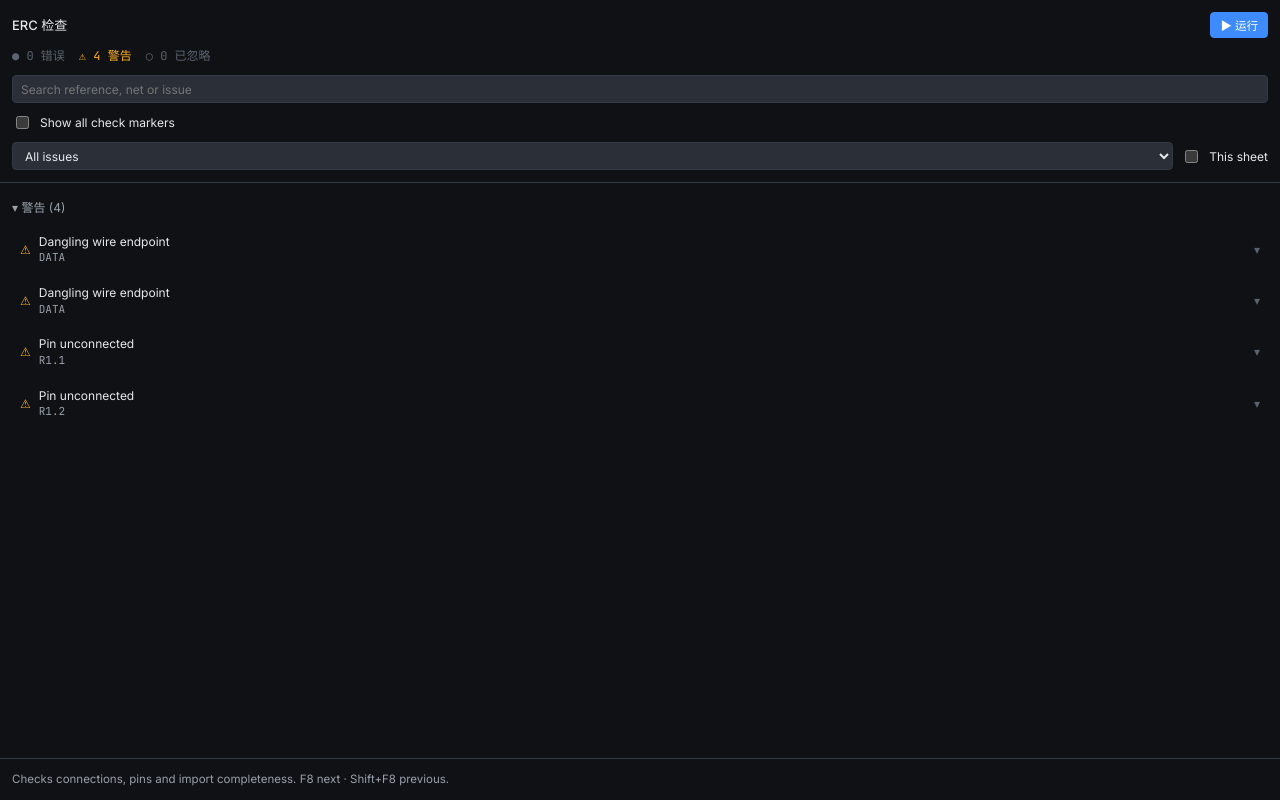
Test: filters and expands warnings, locates the pin, and marks intentional no-connect with undo
This screenshot has width=1280, height=800.
In the search field: (640, 89) left=12, top=75, right=1268, bottom=103, type "R1"
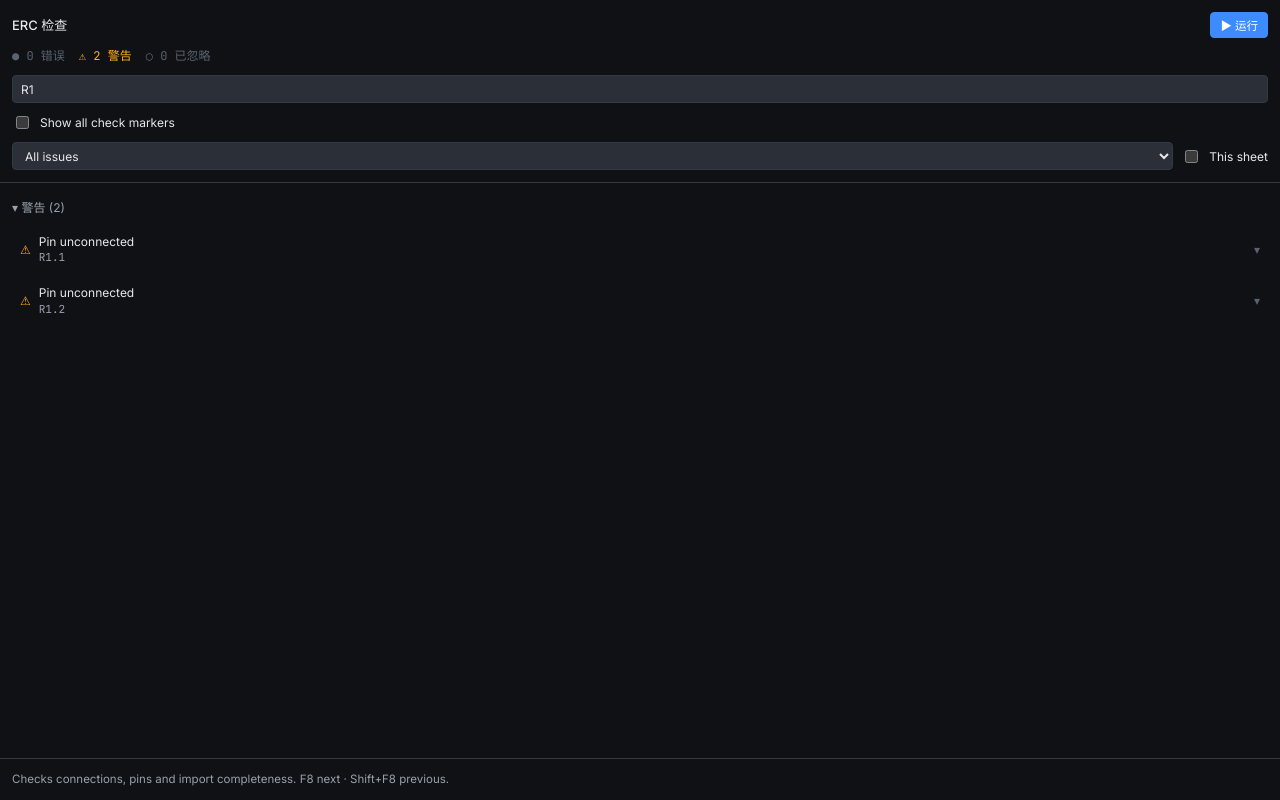
Expected: the number of buttons "⚠ Pin unconnected R1.1 ▾" is 2
Click the button "⚠ Pin unconnected R1.1 ▾": (86, 241) left=12, top=227, right=1268, bottom=272
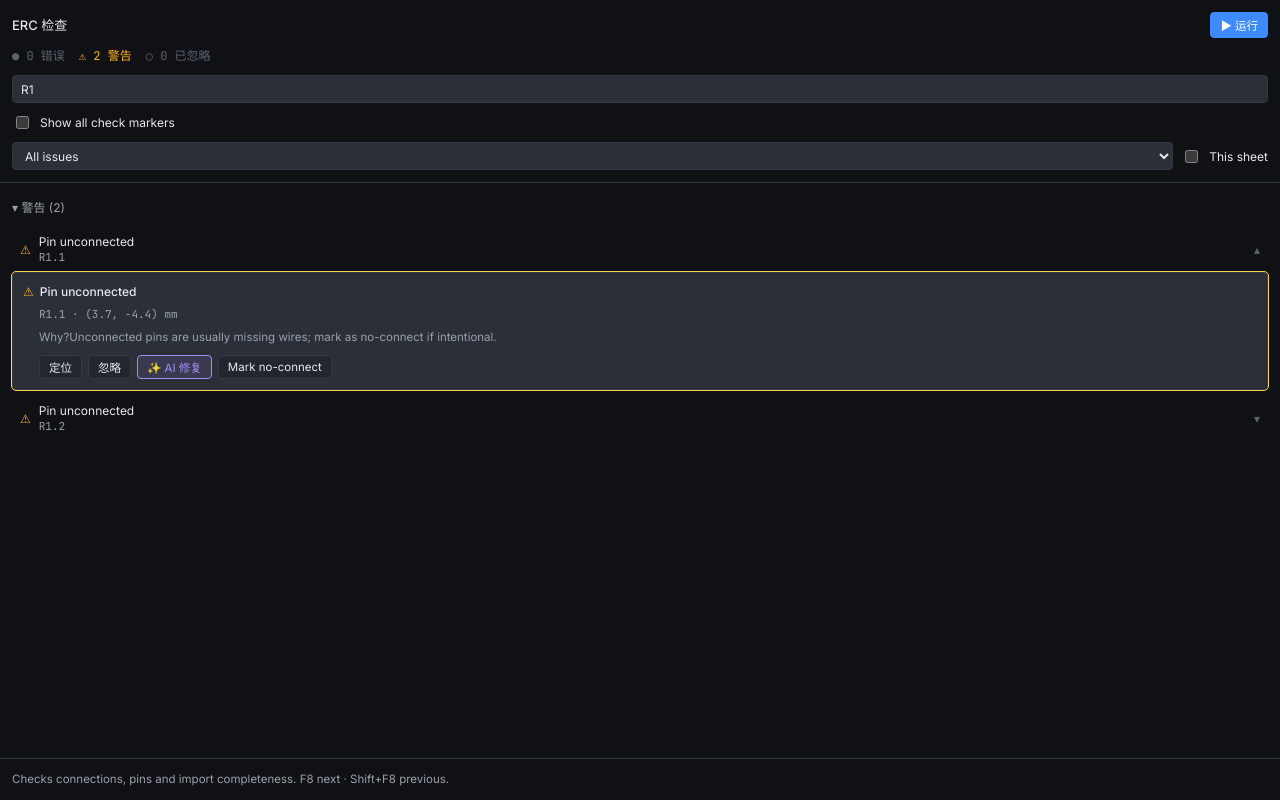
Click the button "Mark no-connect": (275, 367) left=218, top=355, right=332, bottom=379
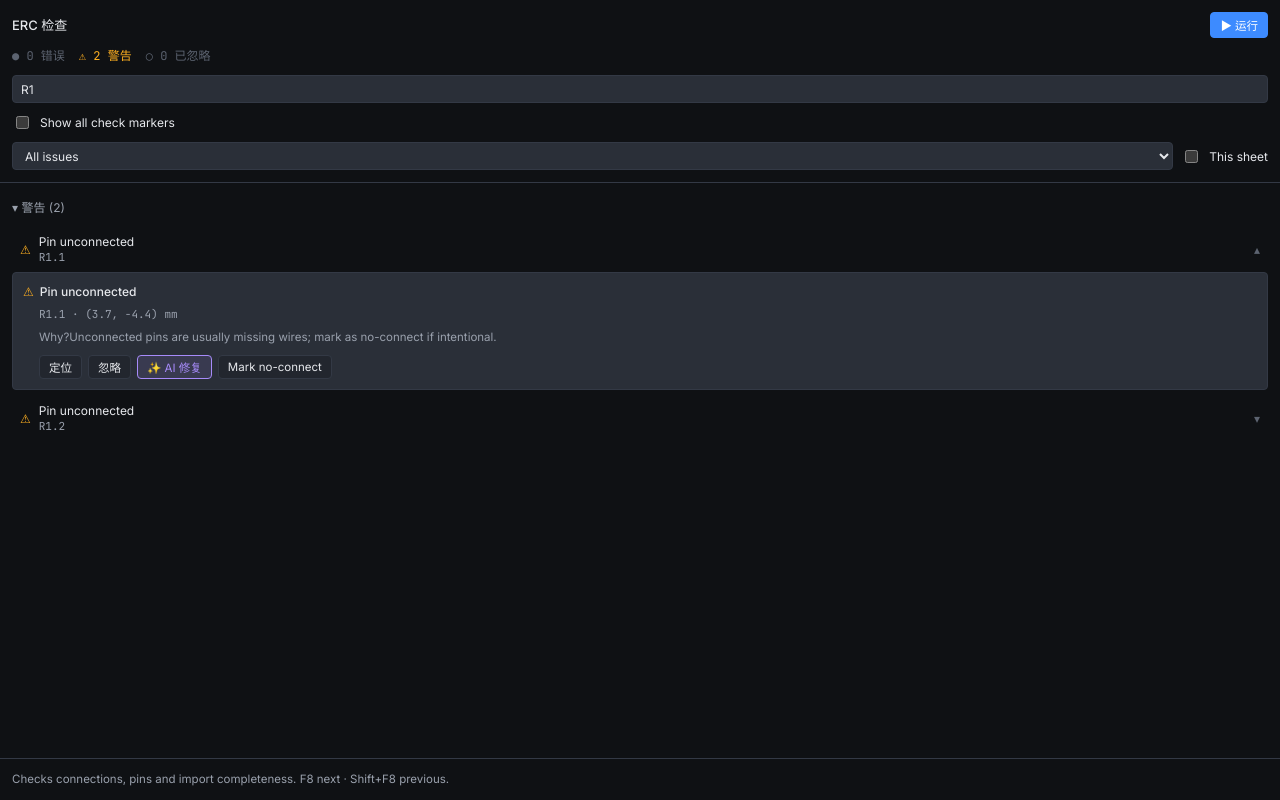
Replace the text in the search field with "nothing-matches": (640, 89) left=12, top=75, right=1268, bottom=103
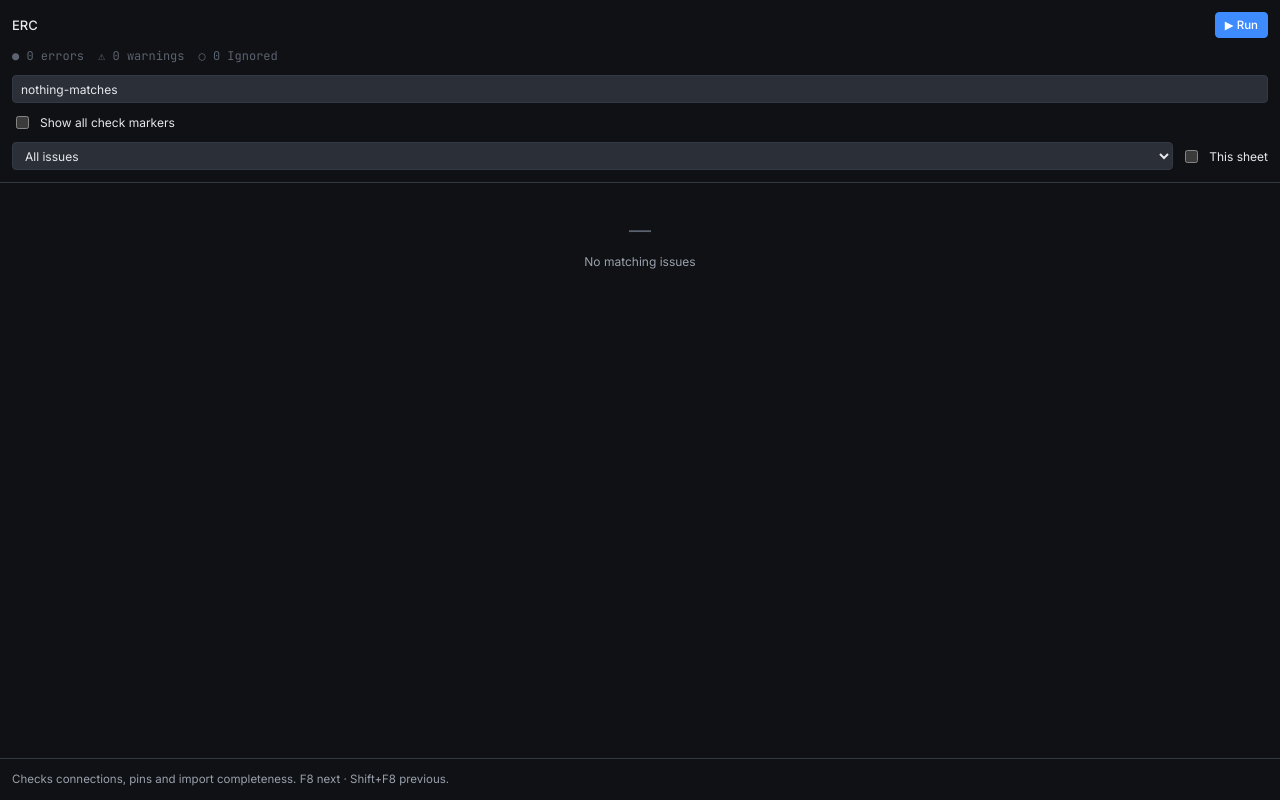
Expected: the text "No matching issues" is shown, left=584, top=253, right=696, bottom=271
